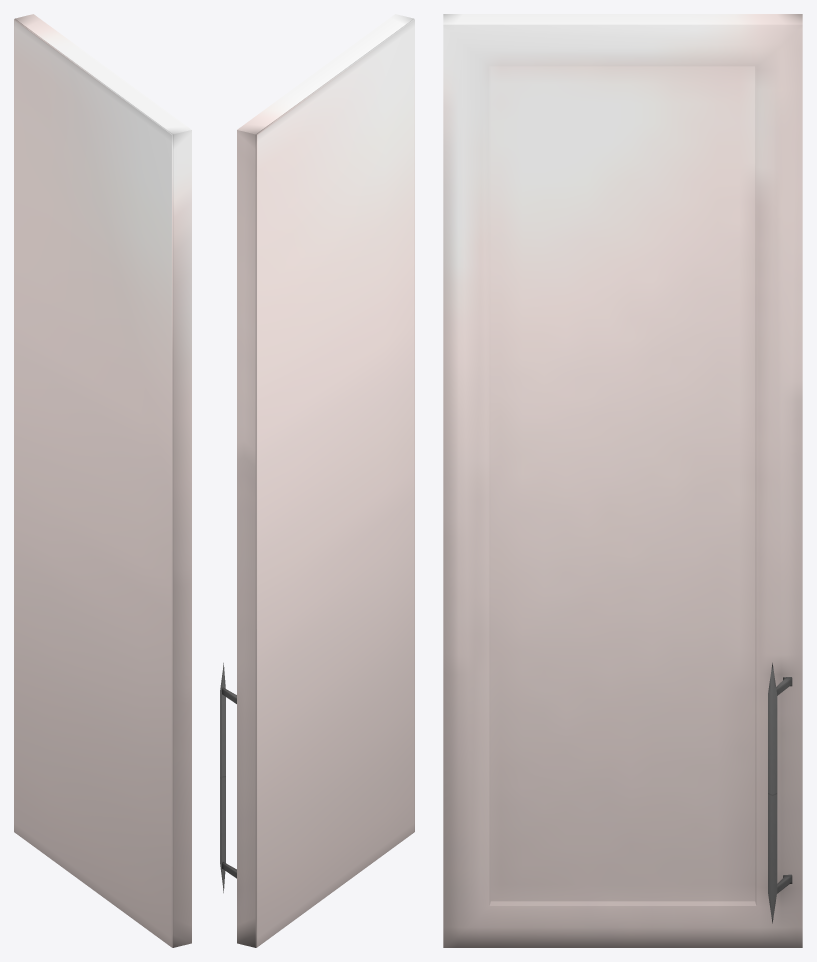
The model's file is kitchencupboard_doorWhole_L.glb.
3 renders of one model, left to right at view 1: azimuth 30°, elevation 25°; view 2: azimuth 150°, elevation 25°; view 3: azimuth 270°, elevation 25°, orthographic. The views are drawn at different scales.
Visible parts, largest first — view 1: RC_Furn_CabinetTopShelfDoor5; view 2: RC_Furn_CabinetTopShelfDoor5; view 3: RC_Furn_CabinetTopShelfDoor5.
Boxes of the visible parts, <box> form: RC_Furn_CabinetTopShelfDoor5: <box>14,14,191,947</box>; RC_Furn_CabinetTopShelfDoor5: <box>220,14,414,947</box>; RC_Furn_CabinetTopShelfDoor5: <box>443,14,802,947</box>.
Size of the model in its own units: 0.1538 by 2.38 by 0.8405.
Materials: 1 (1 with a texture image).
